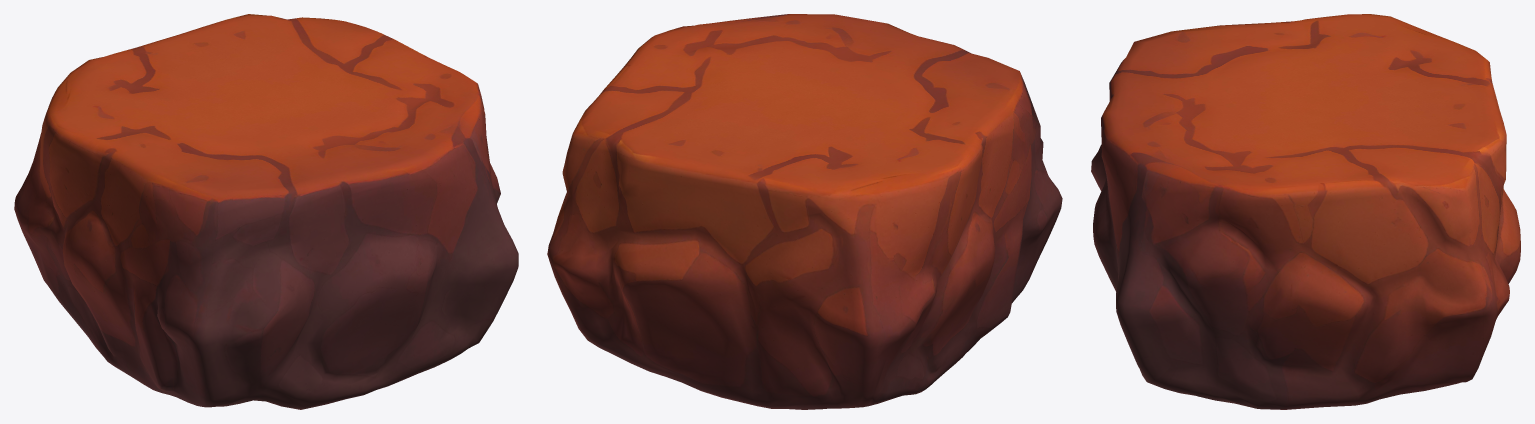
Rendered from meteor_mars.obj.
3 views of the same model, side by side, from view 1: azimuth 30°, elevation 25°; view 2: azimuth 150°, elevation 25°; view 3: azimuth 270°, elevation 25° (orthographic).
Visible parts, largest first — view 1: tripo_node_d8670b05-a22b-4fde-8632-fe520aab1e69; view 2: tripo_node_d8670b05-a22b-4fde-8632-fe520aab1e69; view 3: tripo_node_d8670b05-a22b-4fde-8632-fe520aab1e69.
Part boxes in pixels (left/top/right/bottom): tripo_node_d8670b05-a22b-4fde-8632-fe520aab1e69: left=14, top=14, right=518, bottom=409; tripo_node_d8670b05-a22b-4fde-8632-fe520aab1e69: left=547, top=14, right=1062, bottom=409; tripo_node_d8670b05-a22b-4fde-8632-fe520aab1e69: left=1091, top=14, right=1520, bottom=409.
Bounding box in the file's own units: 0.9881 × 0.6233 × 0.9954.
